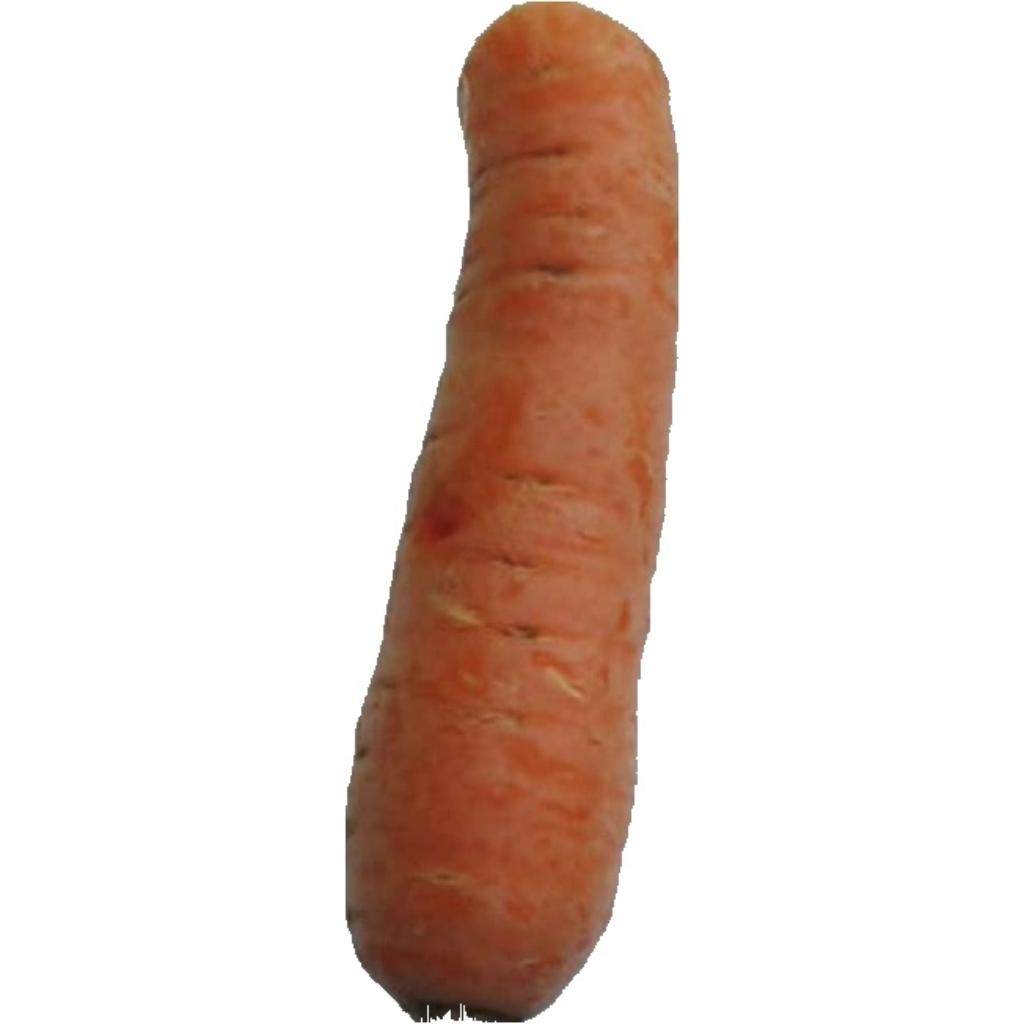carrot: (348, 4, 678, 1020)
